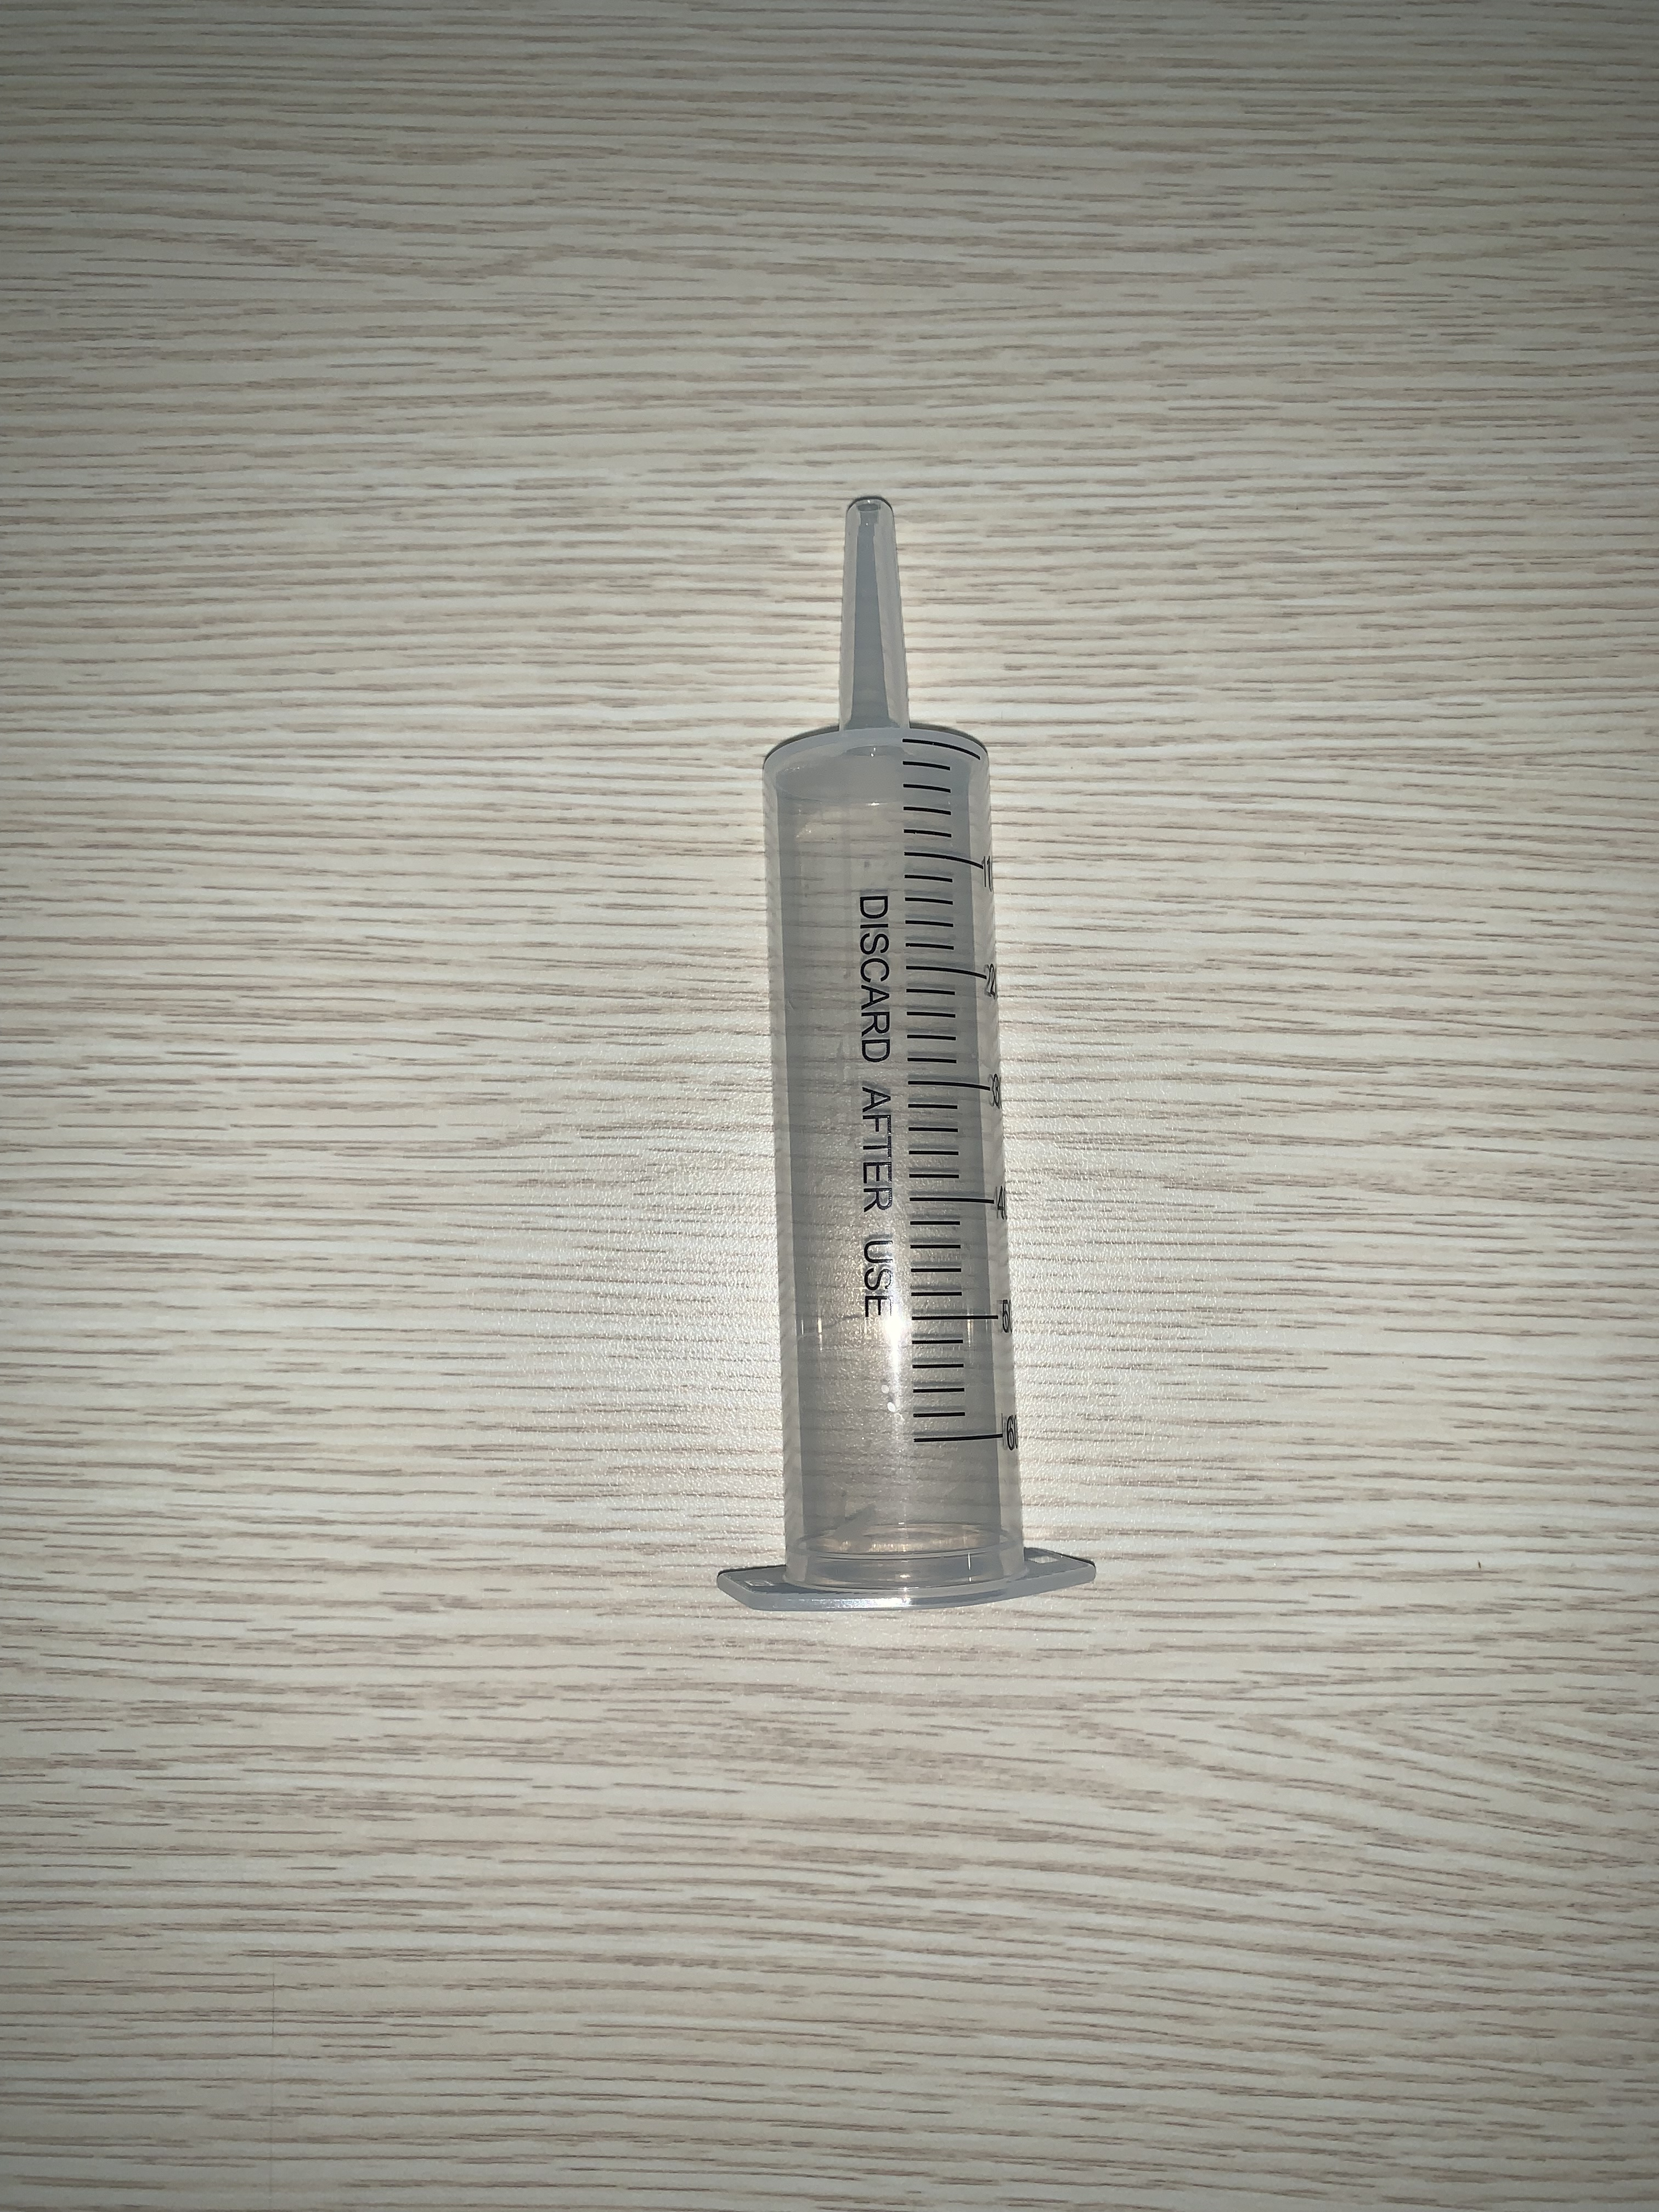syringe: (709, 484, 1094, 1611)
